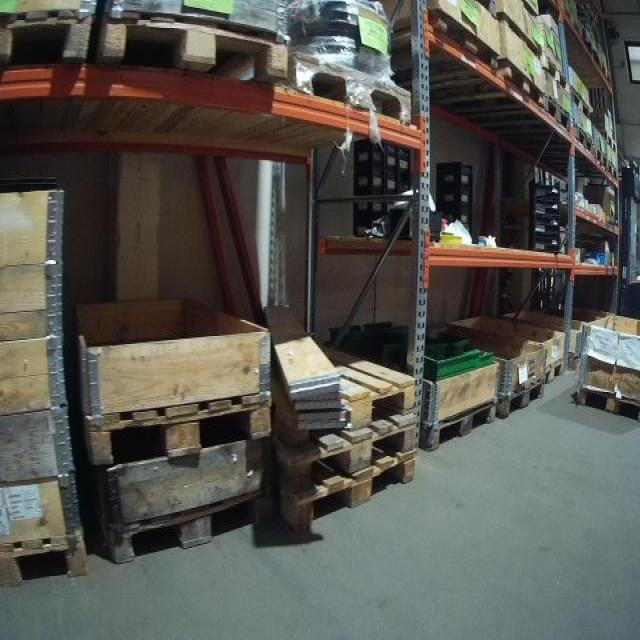pallet: (98, 10, 292, 94), (81, 388, 270, 467), (99, 484, 275, 566), (284, 411, 416, 492), (276, 363, 411, 441), (285, 50, 416, 128), (286, 453, 414, 531), (376, 7, 495, 81), (4, 0, 87, 78), (0, 526, 92, 587), (419, 398, 498, 453), (492, 66, 545, 121), (572, 383, 639, 424), (495, 374, 545, 425), (539, 96, 570, 137), (542, 57, 574, 94), (533, 355, 567, 385), (563, 127, 592, 160), (569, 92, 596, 121), (598, 127, 618, 155), (588, 139, 604, 171), (602, 160, 620, 187)
pallet_truck: (615, 162, 639, 313)
